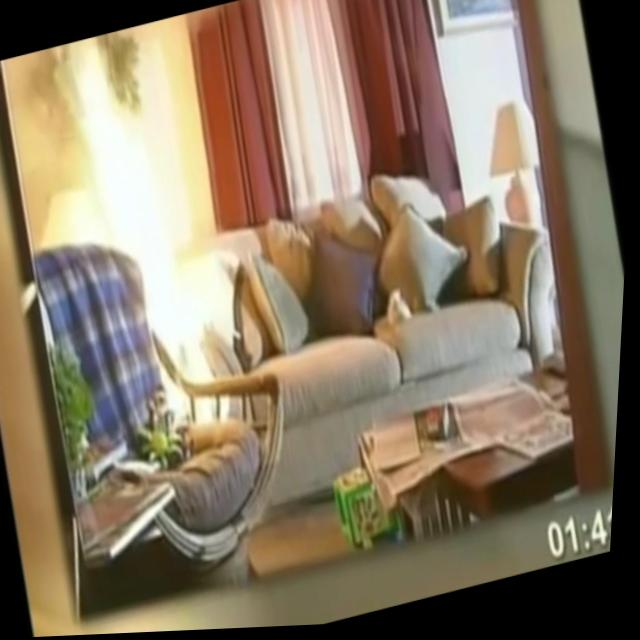fire: (53, 40, 253, 444)
